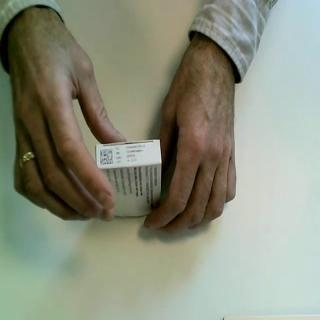oxycontin5mg: (94, 138, 163, 220)
